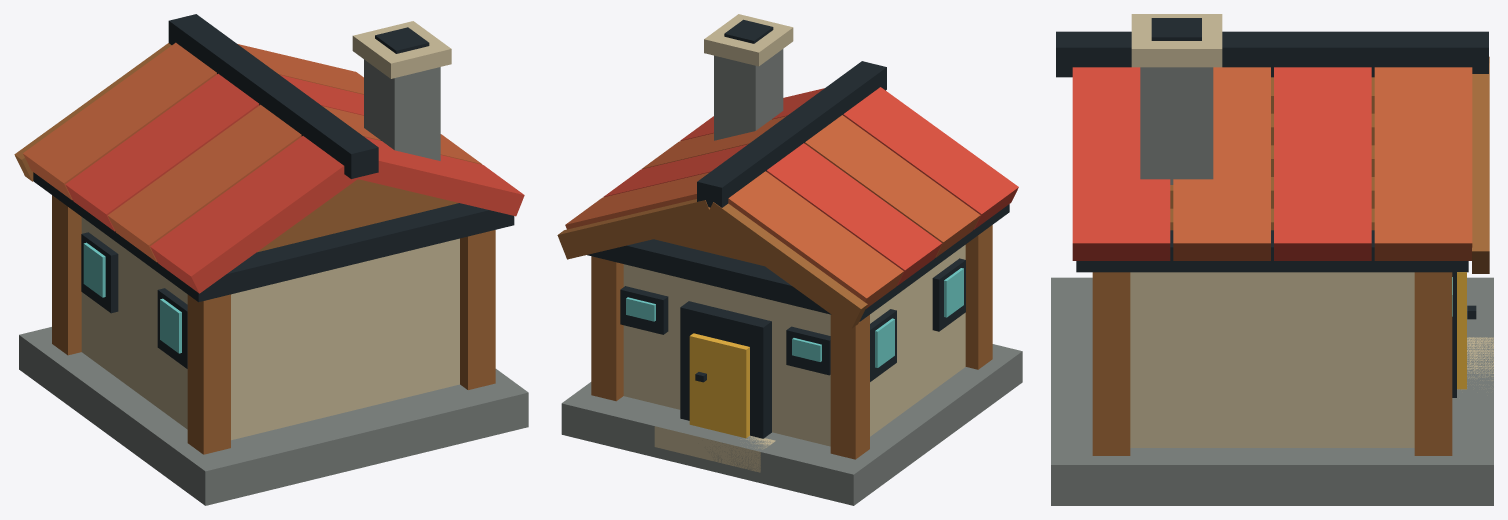
Rendered from base_core.glb.
The picture shows the model from 3 angles, left to right: view 1: azimuth 30°, elevation 25°; view 2: azimuth 150°, elevation 25°; view 3: azimuth 270°, elevation 25°; orthographic projection. The views are drawn at different scales.
Parts seen in each view (by area): view 1: bunker, foundation, roof_tiles.003, roof_lower, roof_tiles.002, roof_tiles.001, roof_tiles, ridge, pillar.001, chimney, roof_tiles.007, pillar.003 (+14 smaller); view 2: bunker, foundation, roof_tiles, roof_tiles.001, roof_tiles.003, roof_tiles.002, roof_lower, ridge, door_frame, door, roof_fascia, pillar (+21 smaller); view 3: bunker, foundation, roof_tiles.004, roof_tiles.005, roof_tiles.007, roof_tiles.006, ridge, chimney, pillar.002, pillar.003, roof_lower, chimney_cap (+5 smaller).
Boxes of the visible parts, x1=… form: bunker: x1=81, y1=217, x2=459, y2=440; foundation: x1=19, y1=327, x2=528, y2=505; roof_tiles.003: x1=150, y1=136, x2=360, y2=293; roof_lower: x1=33, y1=172, x2=514, y2=302; roof_tiles.002: x1=107, y1=104, x2=301, y2=262; roof_tiles.001: x1=65, y1=73, x2=259, y2=231; roof_tiles: x1=23, y1=42, x2=216, y2=200; ridge: x1=168, y1=14, x2=378, y2=178; pillar.001: x1=187, y1=294, x2=230, y2=454; chimney: x1=364, y1=59, x2=440, y2=160; roof_tiles.007: x1=358, y1=137, x2=524, y2=216; pillar.003: x1=460, y1=230, x2=495, y2=389; bunker: x1=623, y1=245, x2=965, y2=446; foundation: x1=561, y1=344, x2=1022, y2=505; roof_tiles: x1=728, y1=171, x2=903, y2=308; roof_tiles.001: x1=766, y1=143, x2=942, y2=285; roof_tiles.003: x1=843, y1=87, x2=1018, y2=229; roof_tiles.002: x1=805, y1=115, x2=980, y2=257; roof_lower: x1=587, y1=204, x2=1009, y2=321; ridge: x1=697, y1=61, x2=886, y2=207; door_frame: x1=680, y1=301, x2=771, y2=438; door: x1=689, y1=333, x2=749, y2=438; roof_fascia: x1=703, y1=202, x2=867, y2=328; pillar: x1=830, y1=314, x2=869, y2=459; bunker: x1=1130, y1=272, x2=1414, y2=447; foundation: x1=1051, y1=277, x2=1493, y2=505; roof_tiles.004: x1=1374, y1=67, x2=1472, y2=260; roof_tiles.005: x1=1274, y1=67, x2=1371, y2=260; roof_tiles.007: x1=1072, y1=67, x2=1170, y2=260; roof_tiles.006: x1=1173, y1=67, x2=1270, y2=260; ridge: x1=1056, y1=31, x2=1488, y2=77; chimney: x1=1140, y1=67, x2=1213, y2=184; pillar.002: x1=1414, y1=272, x2=1452, y2=455; pillar.003: x1=1092, y1=272, x2=1130, y2=455; roof_lower: x1=1076, y1=230, x2=1468, y2=272; chimney_cap: x1=1131, y1=14, x2=1222, y2=67.
Bounding box in the file's own units: 0.9146 × 0.9555 × 0.88.
